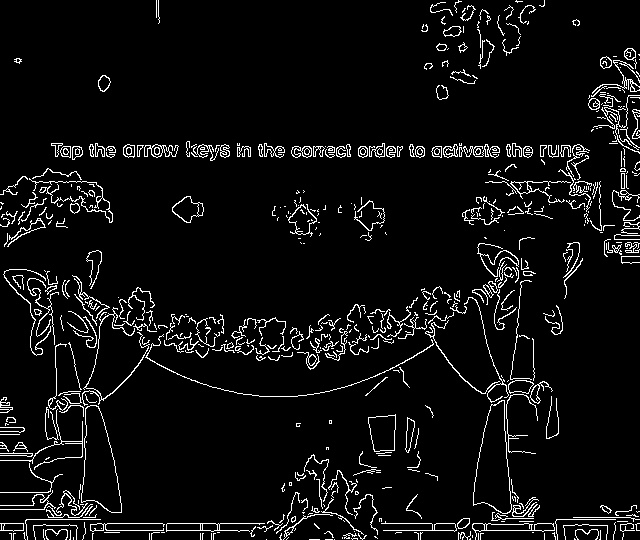left: (165, 187, 212, 229), (349, 195, 393, 234)
right: (465, 197, 505, 229)
up: (278, 197, 323, 243)
